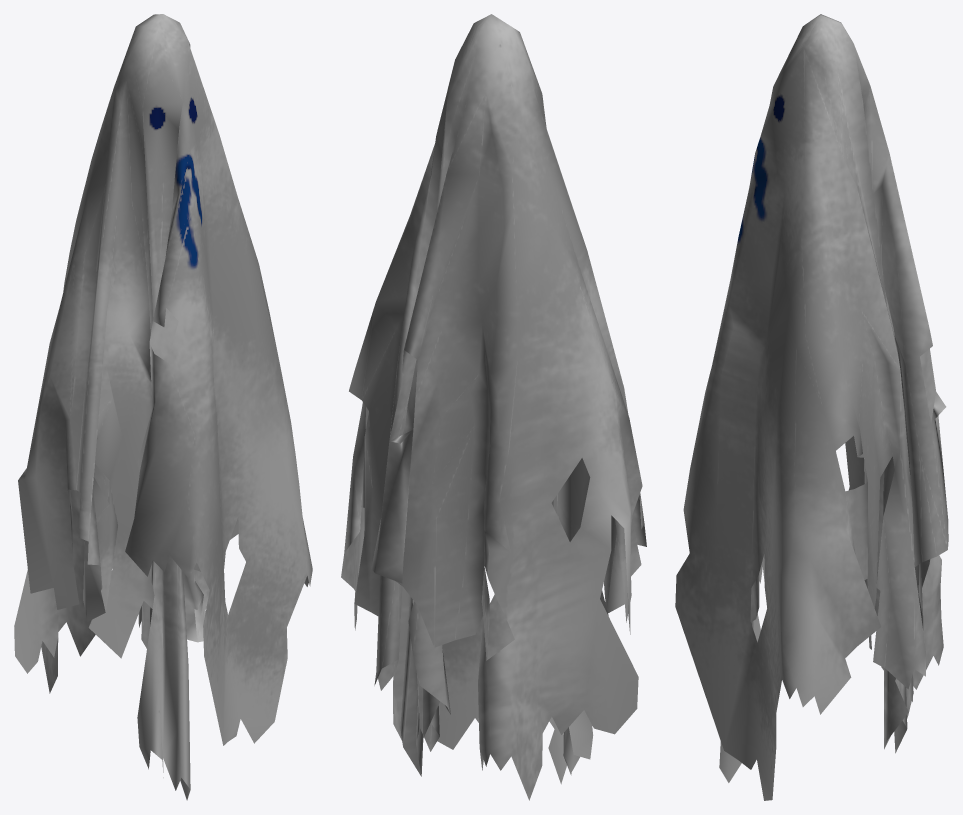
Rendered from Espectro.fbx.
3 renders of one model, left to right at view 1: azimuth 30°, elevation 25°; view 2: azimuth 150°, elevation 25°; view 3: azimuth 270°, elevation 25°, orthographic. The views are drawn at different scales.
Visible parts, largest first — view 1: Plane003; view 2: Plane003; view 3: Plane003.
Part boxes in pixels (box(x1,y1,x2,y2)): Plane003: box(14, 14, 312, 800); Plane003: box(341, 14, 646, 800); Plane003: box(675, 14, 948, 800).
Bounding box in the file's own units: 40.94 × 104 × 33.18.
